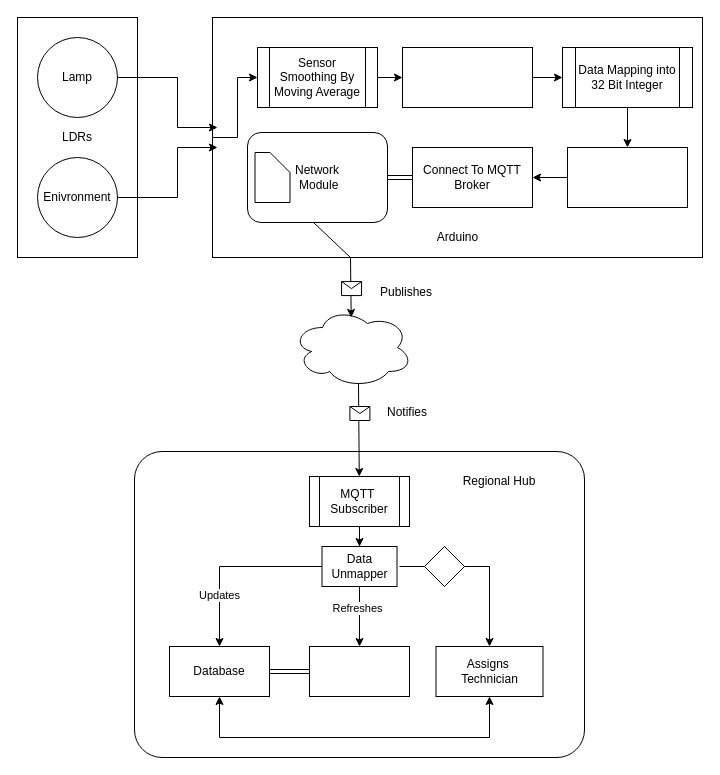
Image size: 720x775. Some labels were removed from this diagram. The shapes that lost their labels are listed below. From the top down, each one's centre as x and y in pixels, then its label:
At (x=467, y=77): "State Determination".
At (x=272, y=177): "GSM".
At (x=627, y=177): "Integer to Hex String Convertion".
At (x=352, y=347): "HiveMQ (a MQTT Broker)".
At (x=444, y=566): "Fault".
At (x=359, y=671): "UI".
